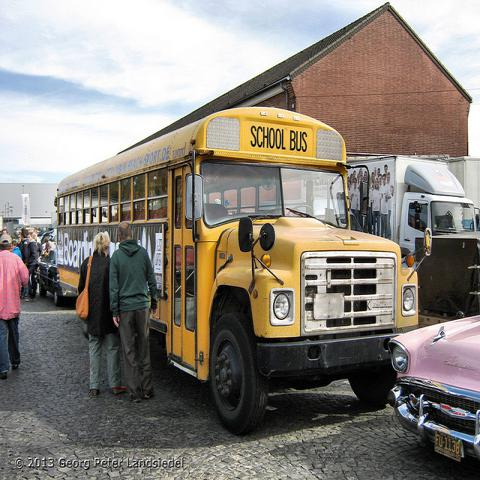bus: (53, 110, 435, 441)
car: (387, 314, 479, 463), (36, 248, 76, 304)
truck: (347, 154, 480, 270), (446, 154, 480, 217)
